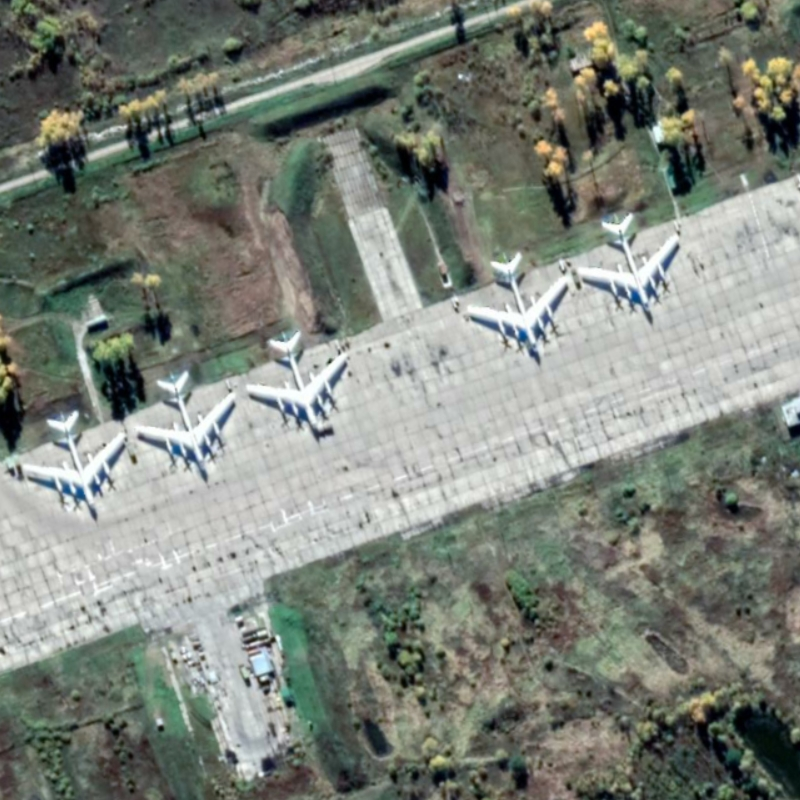A17: (575, 211, 682, 315), (244, 329, 350, 433), (21, 408, 127, 512), (465, 251, 568, 355), (135, 369, 237, 474)
